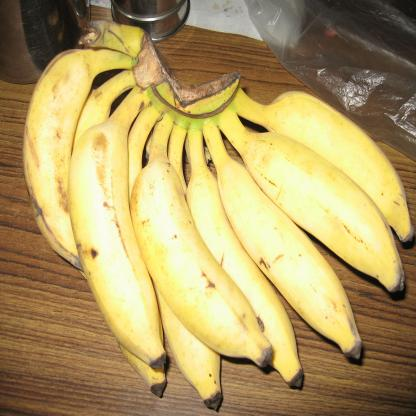---: (20, 12, 416, 406)
